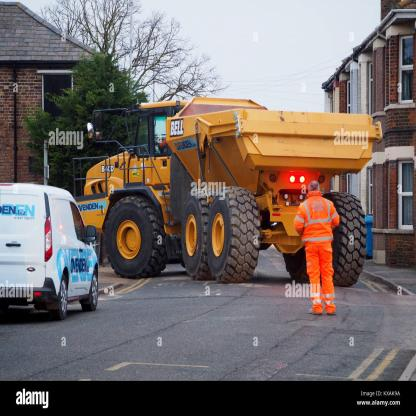dump_truck: (71, 93, 381, 298)
